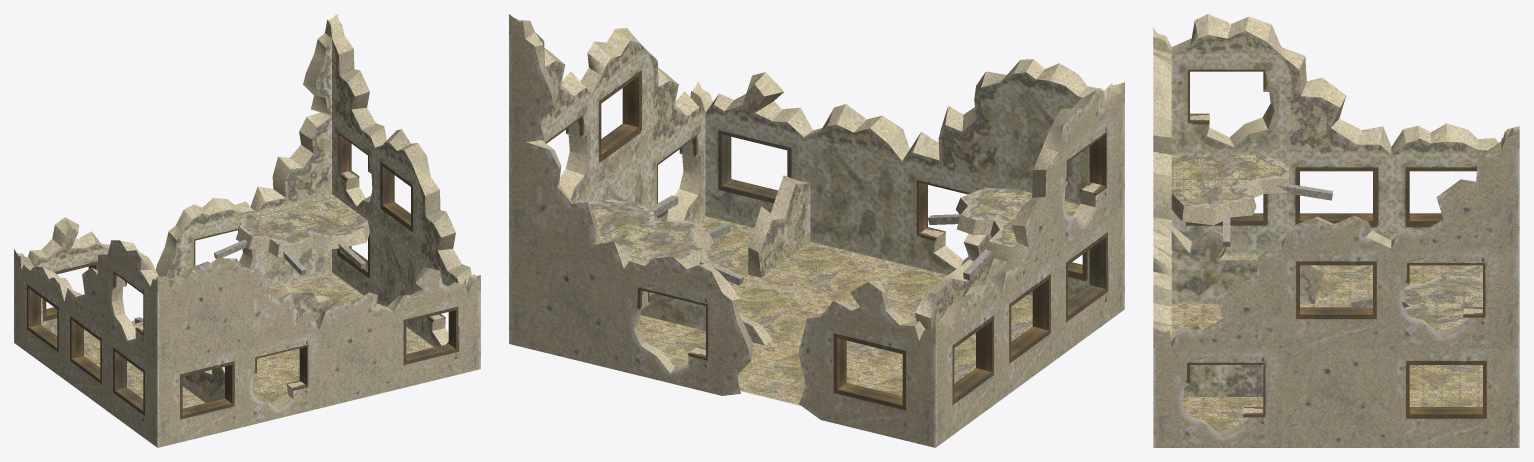
The model's file is RuinHouse.gltf.
The picture shows the model from 3 angles, left to right: view 1: azimuth 30°, elevation 25°; view 2: azimuth 150°, elevation 25°; view 3: azimuth 270°, elevation 25°; orthographic projection. The views are drawn at different scales.
Visible parts, largest first — view 1: Box01; view 2: Box01; view 3: Box01.
Part boxes in pixels (x1,y1,x2,y2): Box01: [14, 14, 480, 447]; Box01: [509, 14, 1124, 447]; Box01: [1153, 14, 1519, 447].
Bounding box in the file's own units: 18.07 × 13.36 × 13.9.
Materials: 1 (1 with a texture image).
